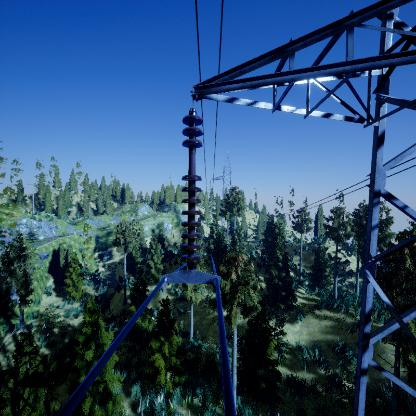insulator: (178, 113, 206, 268)
